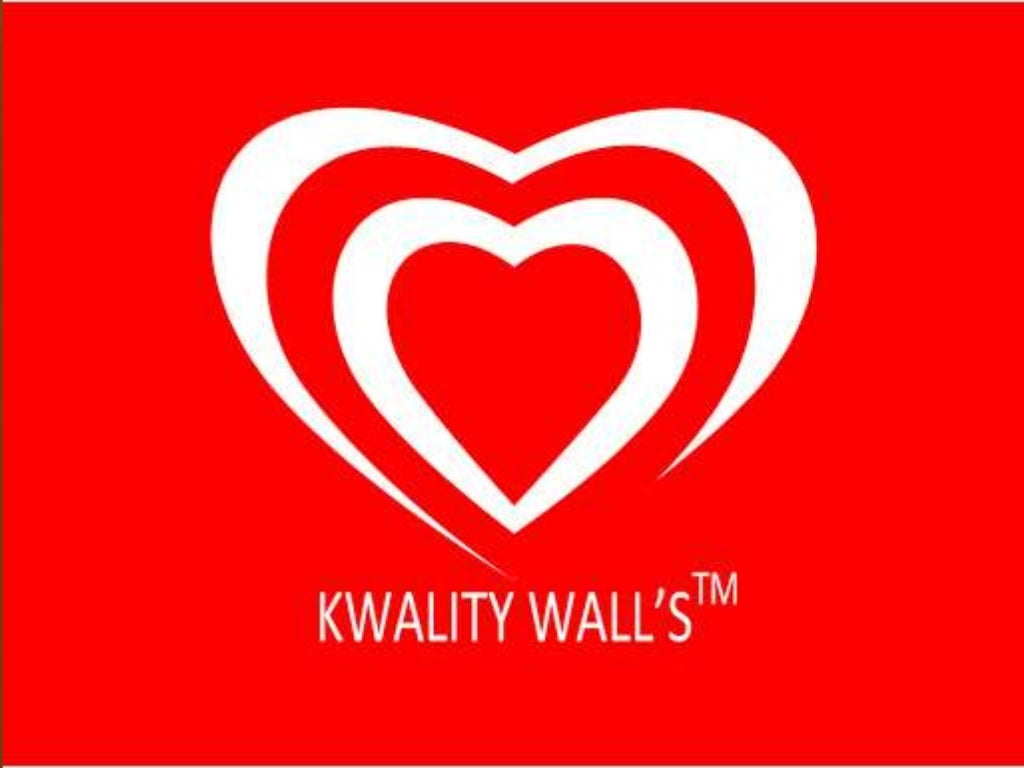Kwality_Walls: (187, 91, 837, 586)
